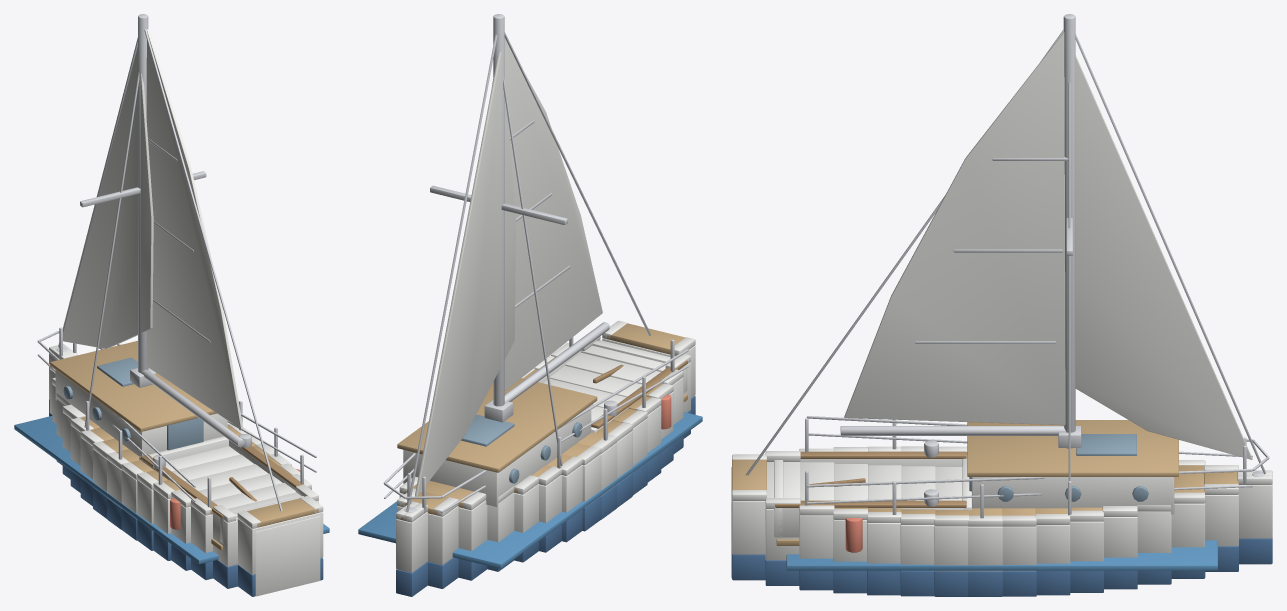
Rendered from th15_segelboot.glb.
3 views of the same model, side by side, from view 1: azimuth 30°, elevation 25°; view 2: azimuth 150°, elevation 25°; view 3: azimuth 270°, elevation 25° (orthographic). The views are drawn at different scales.
Parts seen in each view (by area): view 1: Flaeche, Flaeche.001, Cube.098, Cube.085, Cube.084, Cube.097, Cylinder.008, Cube.010, Cube.028, Cube.022, Cube.103, Cube.034 (+18 smaller); view 2: Flaeche.001, Flaeche, Cube.098, Cube.084, Cube.097, Cylinder.008, Cube.010, Cube.080, Cube.102, Cube.075, Cube.016, Cube.002 (+27 smaller); view 3: Flaeche, Flaeche.001, Cube.098, Cube.097, Cube.084, Cylinder.008, Cube.010, Cube.022, Cube.028, Cube.034, Cylinder.009, Cube.016 (+34 smaller).
Part boxes in pixels (x1=…): Flaeche: x1=146, y1=29, x2=243, y2=429; Flaeche.001: x1=63, y1=47, x2=153, y2=348; Cube.098: x1=50, y1=340, x2=216, y2=431; Cube.085: x1=255, y1=516, x2=320, y2=596; Cube.084: x1=14, y1=416, x2=329, y2=564; Cube.097: x1=55, y1=370, x2=227, y2=456; Cylinder.008: x1=138, y1=14, x2=148, y2=372; Cube.010: x1=191, y1=482, x2=295, y2=552; Cube.028: x1=137, y1=454, x2=254, y2=523; Cube.022: x1=153, y1=464, x2=268, y2=533; Cube.103: x1=144, y1=29, x2=282, y2=511; Cube.034: x1=121, y1=446, x2=239, y2=513; Flaeche.001: x1=415, y1=51, x2=515, y2=496; Flaeche: x1=504, y1=38, x2=602, y2=390; Cube.098: x1=397, y1=378, x2=597, y2=472; Cube.084: x1=358, y1=412, x2=702, y2=568; Cube.097: x1=403, y1=405, x2=591, y2=506; Cylinder.008: x1=493, y1=14, x2=504, y2=406; Cube.010: x1=565, y1=352, x2=683, y2=424; Cube.080: x1=396, y1=511, x2=427, y2=572; Cube.102: x1=406, y1=34, x2=497, y2=511; Cube.075: x1=397, y1=506, x2=458, y2=564; Cube.016: x1=549, y1=366, x2=673, y2=439; Cube.002: x1=607, y1=323, x2=685, y2=354; Flaeche: x1=844, y1=32, x2=1065, y2=425; Flaeche.001: x1=1075, y1=55, x2=1252, y2=459; Cube.098: x1=967, y1=420, x2=1178, y2=476; Cube.097: x1=972, y1=477, x2=1174, y2=514; Cube.084: x1=786, y1=540, x2=1217, y2=570; Cylinder.008: x1=1063, y1=14, x2=1075, y2=448; Cube.010: x1=799, y1=462, x2=834, y2=558; Cube.022: x1=867, y1=465, x2=901, y2=563; Cube.028: x1=900, y1=466, x2=935, y2=564; Cube.034: x1=934, y1=467, x2=968, y2=571; Cylinder.009: x1=840, y1=426, x2=1066, y2=435; Cube.016: x1=833, y1=464, x2=868, y2=561.
Size of the model in its own units: 2.62 by 8.91 by 8.03.
